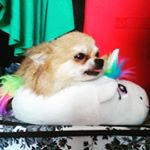puppy: (6, 29, 109, 97)
